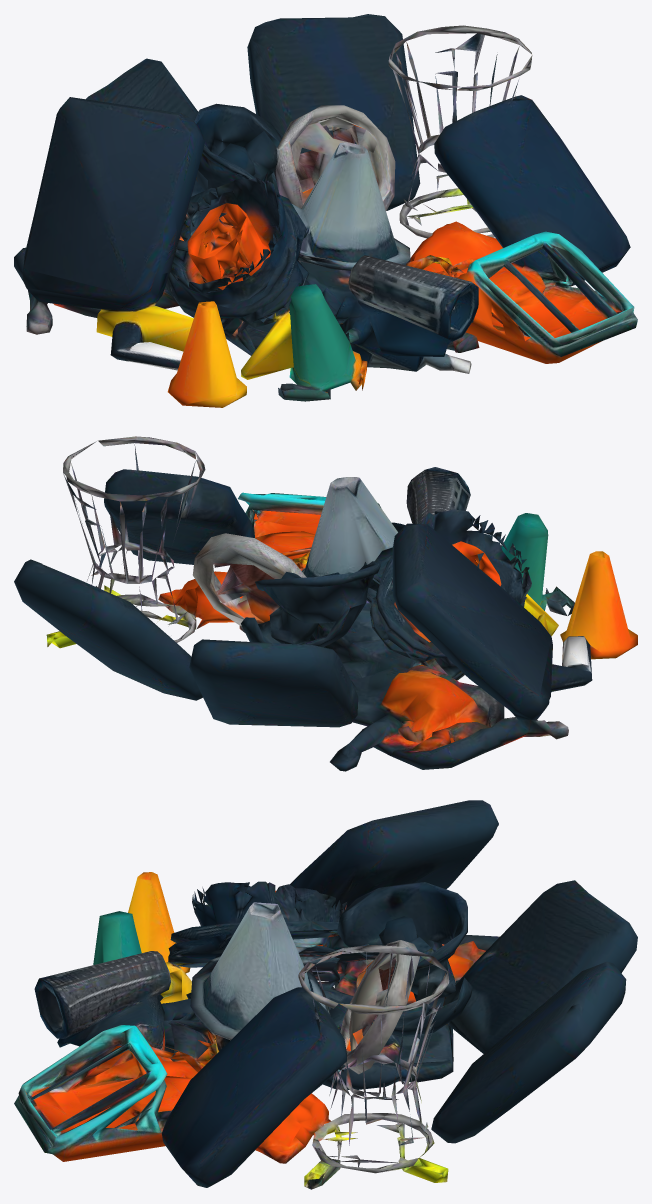
File: scrap_sports_equipment_pile.glb
The picture shows the model from 3 angles, top to bottom: view 1: azimuth 30°, elevation 25°; view 2: azimuth 150°, elevation 25°; view 3: azimuth 270°, elevation 25°; orthographic projection. The views are drawn at different scales.
Bounding box in the file's own units: 1.9 × 0.6391 × 1.88.
1 material, 1 textured.
